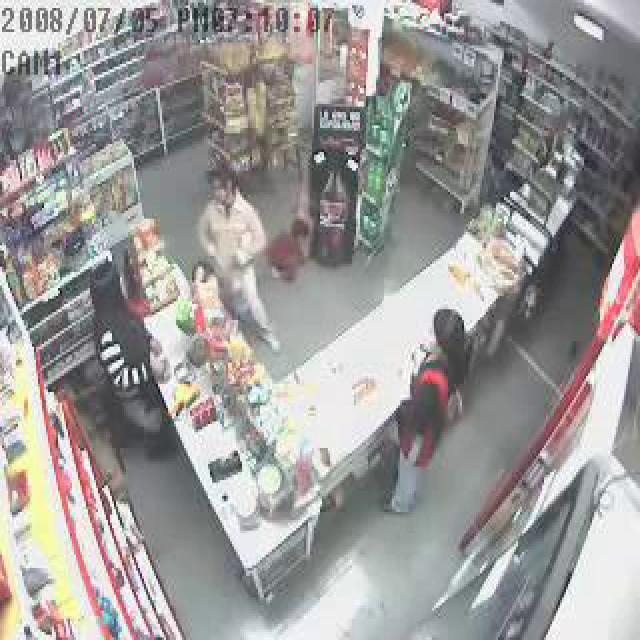robbery: (118, 52, 404, 578)
